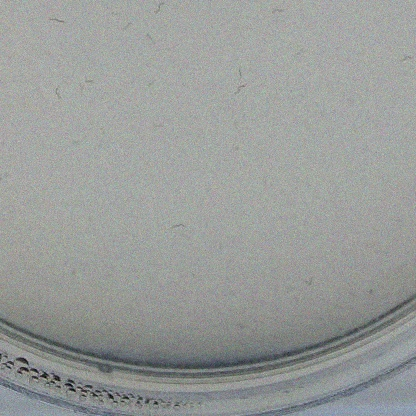worm: (232, 82, 253, 101), (168, 221, 191, 235), (232, 64, 251, 80), (48, 14, 69, 28), (299, 277, 319, 291), (51, 84, 67, 101), (398, 54, 416, 66), (148, 121, 169, 131), (120, 19, 134, 34), (144, 30, 158, 45), (0, 170, 13, 185), (82, 73, 95, 87), (69, 136, 83, 148), (103, 7, 121, 16), (271, 3, 283, 15), (76, 83, 87, 96), (143, 78, 157, 88), (293, 48, 309, 56)
